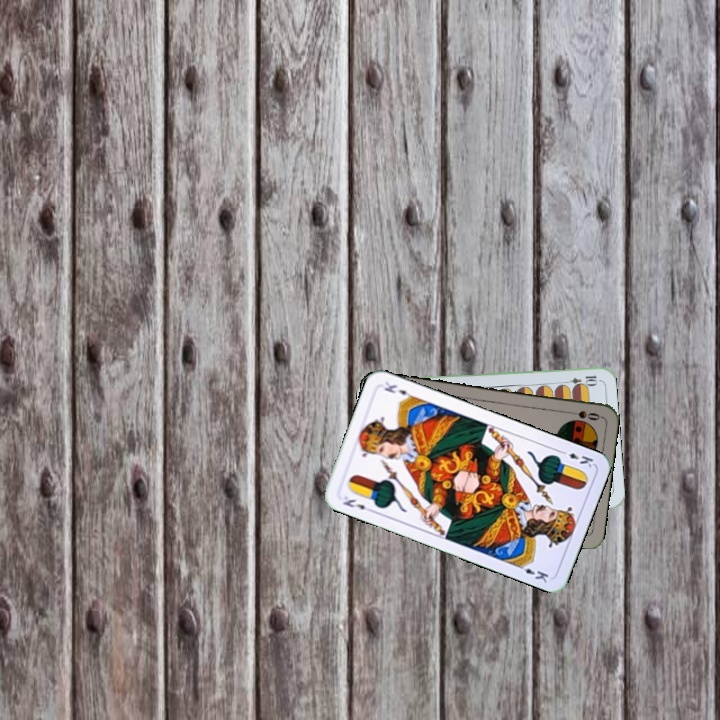E10: (559, 371, 600, 388)
EK: (556, 446, 596, 470), (339, 492, 376, 515)
SO: (562, 407, 603, 423)
